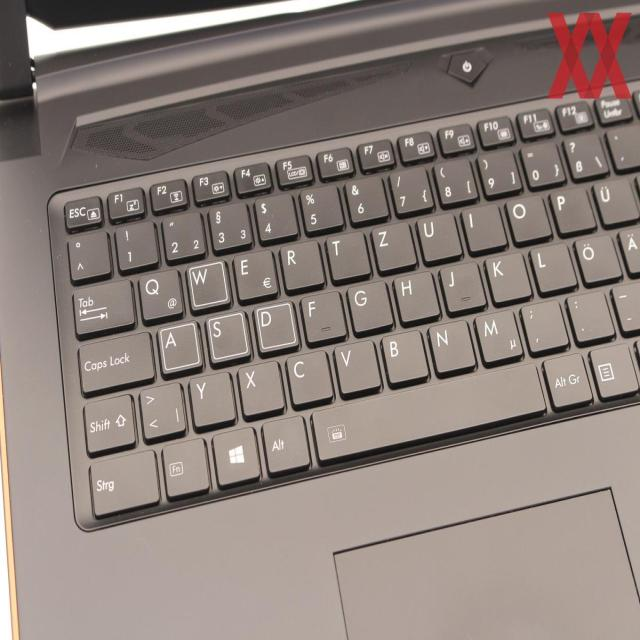0: (518, 138, 564, 186)
1: (114, 217, 157, 269)
2: (160, 208, 205, 260)
3: (206, 198, 252, 250)
4: (252, 189, 296, 240)
5: (297, 181, 342, 231)
6: (342, 172, 387, 222)
7: (387, 164, 432, 213)
8: (431, 155, 477, 203)
9: (476, 146, 521, 195)
a: (156, 318, 200, 372)
accent: (605, 122, 638, 169)
ae: (617, 223, 639, 272)
alt-left: (259, 411, 309, 474)
altgr-right: (540, 349, 592, 407)
b: (378, 326, 428, 383)
c: (283, 347, 333, 405)
caret: (66, 227, 110, 279)
comma: (517, 296, 568, 350)
d: (251, 298, 297, 351)
e: (231, 246, 278, 300)
f: (297, 287, 346, 343)
g: (344, 276, 394, 332)
h: (390, 267, 440, 321)
i: (459, 200, 505, 251)
j: (437, 258, 485, 311)
k: (483, 248, 530, 302)
keyboard: (39, 88, 640, 536)
l: (528, 239, 576, 292)
less: (136, 377, 185, 439)
m: (471, 307, 522, 362)
minus: (610, 278, 639, 331)
n: (425, 315, 475, 372)
o: (503, 191, 551, 242)
oe: (571, 231, 621, 282)
p: (547, 183, 594, 233)
point: (563, 286, 614, 341)
q: (135, 266, 183, 321)
r: (277, 237, 324, 290)
s: (203, 308, 249, 362)
shift-left: (81, 390, 135, 453)
shift-lock: (76, 328, 154, 393)
space: (307, 357, 547, 462)
ss: (560, 129, 608, 177)
strg-left: (86, 445, 159, 519)
t: (323, 227, 369, 280)
tab: (71, 275, 134, 335)
u: (414, 209, 461, 262)
ue: (590, 174, 638, 225)
v: (331, 337, 381, 393)
w: (185, 258, 229, 309)
x: (235, 357, 284, 416)
y: (186, 368, 235, 427)
z: (369, 218, 415, 272)
